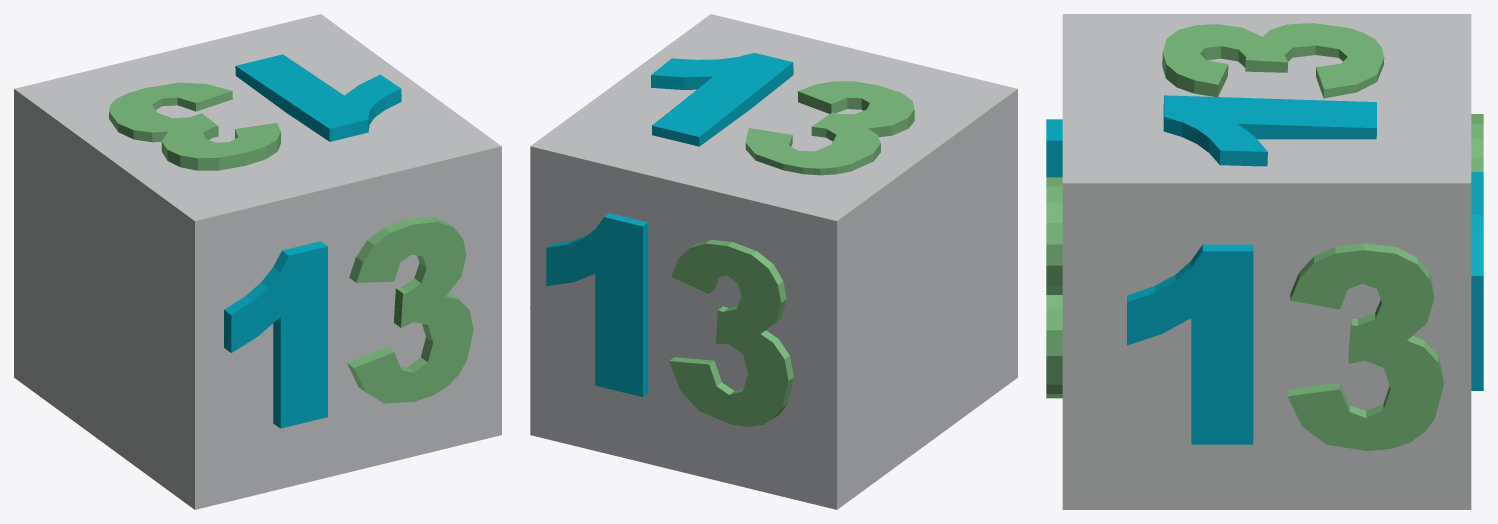
File: number13.glb
The picture shows the model from 3 angles, left to right: view 1: azimuth 30°, elevation 25°; view 2: azimuth 150°, elevation 25°; view 3: azimuth 270°, elevation 25°; orthographic projection. The views are drawn at different scales.
Visible parts, largest first — view 1: Mesh_Mesh_head_geo.001_lambert2SG.001; view 2: Mesh_Mesh_head_geo.001_lambert2SG.001; view 3: Mesh_Mesh_head_geo.001_lambert2SG.001.
Part boxes in pixels (x1=…): Mesh_Mesh_head_geo.001_lambert2SG.001: x1=14, y1=14, x2=501, y2=509; Mesh_Mesh_head_geo.001_lambert2SG.001: x1=530, y1=14, x2=1017, y2=509; Mesh_Mesh_head_geo.001_lambert2SG.001: x1=1046, y1=14, x2=1483, y2=509.
Size of the model in its own units: 0.103 by 0.0938 by 0.108.
